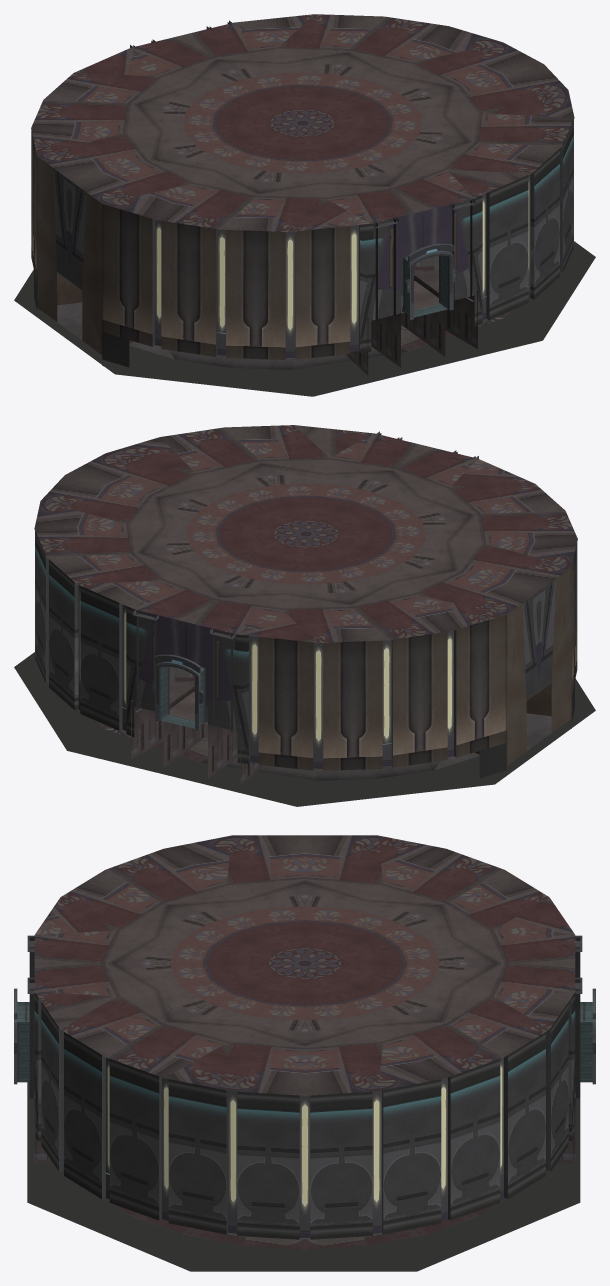
The model's file is Cor1_bldg_War_Room.fbx.
3 views of the same model, one above another, from view 1: azimuth 30°, elevation 25°; view 2: azimuth 150°, elevation 25°; view 3: azimuth 270°, elevation 25° (orthographic). The views are drawn at different scales.
Visible parts, largest first — view 1: Cor1_bldg_War_Room1, polymsh22, polymsh23, polymsh1405, floor, polymsh1408, polymsh_detached136, polymsh1406; view 2: Cor1_bldg_War_Room1, polymsh22, polymsh23, polymsh1405, floor, polymsh1409, polymsh_detached137, polymsh1406; view 3: Cor1_bldg_War_Room1, polymsh22, polymsh23, floor, polymsh_detached136, polymsh_detached137, polymsh1405.
Part boxes in pixels (box(x1,y1,x2,y2)): Cor1_bldg_War_Room1: box(31, 14, 574, 231); polymsh22: box(31, 20, 573, 367); polymsh23: box(14, 22, 595, 396); polymsh1405: box(346, 270, 477, 375); floor: box(57, 255, 512, 369); polymsh1408: box(405, 243, 456, 319); polymsh_detached136: box(404, 250, 448, 317); polymsh1406: box(57, 272, 354, 343); Cor1_bldg_War_Room1: box(34, 425, 577, 642); polymsh22: box(35, 431, 577, 778); polymsh23: box(14, 433, 595, 806); polymsh1405: box(131, 681, 262, 786); floor: box(96, 666, 551, 780); polymsh1409: box(152, 654, 203, 730); polymsh_detached137: box(160, 661, 204, 728); polymsh1406: box(255, 683, 551, 754); Cor1_bldg_War_Room1: box(34, 835, 575, 1095); polymsh22: box(27, 935, 582, 1239); polymsh23: box(27, 937, 580, 1271); floor: box(103, 1198, 506, 1249); polymsh_detached136: box(17, 1001, 29, 1082); polymsh_detached137: box(580, 1002, 592, 1082); polymsh1405: box(34, 1093, 575, 1163).
Size of what is drawn, in the model's own units: 3693 by 1191 by 3440.
